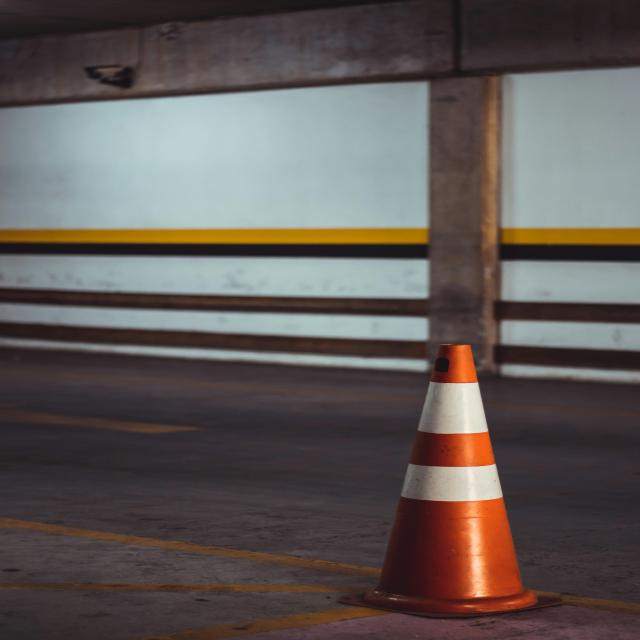Traffic Cone: (314, 323, 558, 640)
